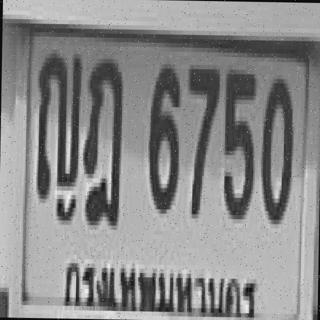A13: (35, 49, 80, 199)
A14: (80, 54, 122, 225)
N00: (258, 74, 293, 220)
N05: (222, 65, 255, 215)
N06: (146, 59, 180, 210)
N07: (186, 60, 218, 214)
P04: (60, 249, 262, 320)
